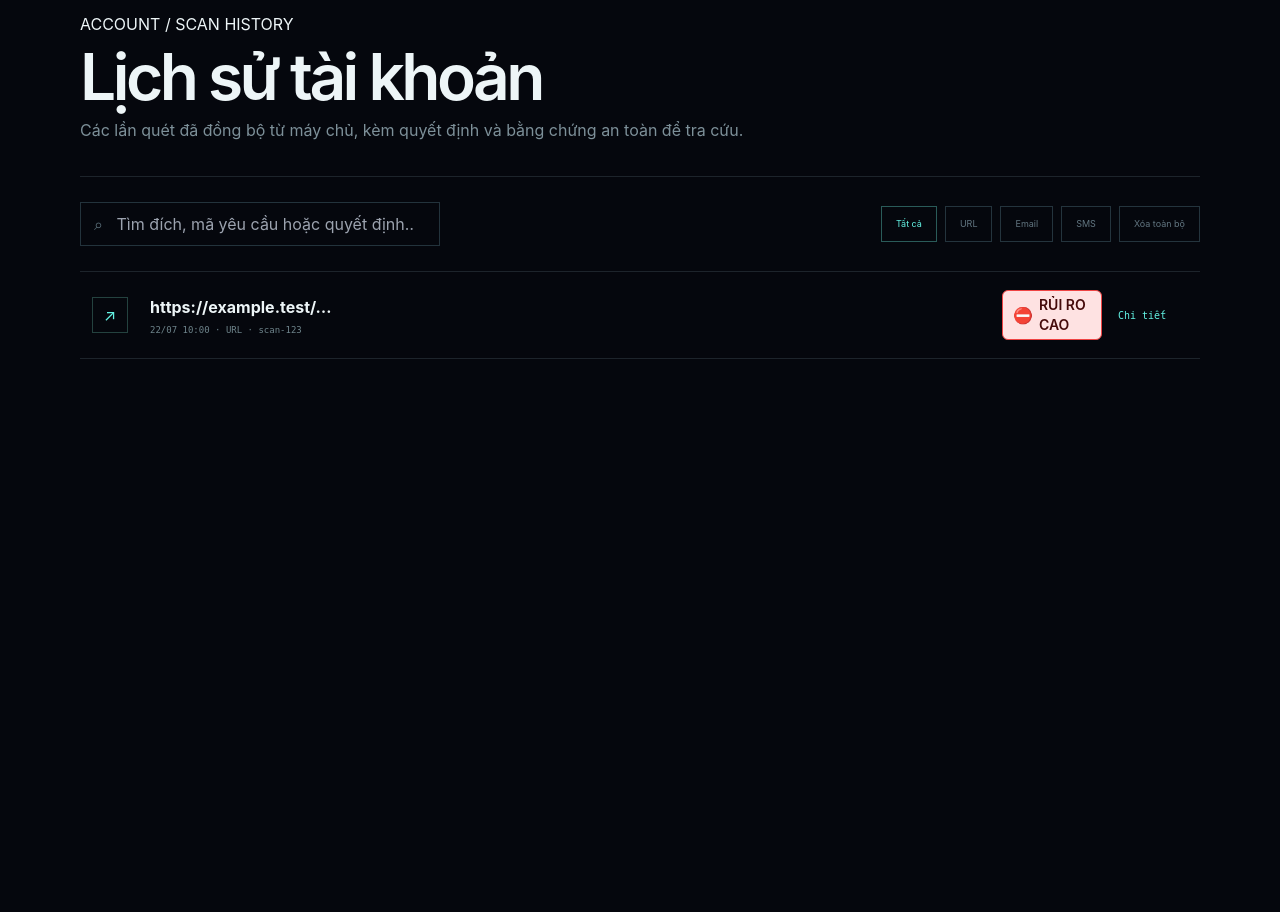
Test: AccountHistoryPage › exports the owner-safe detail as a JSON download
This screenshot has width=1280, height=912.
Click the button "Chi tiết" at [110, 315], box [80,272,1200,358]
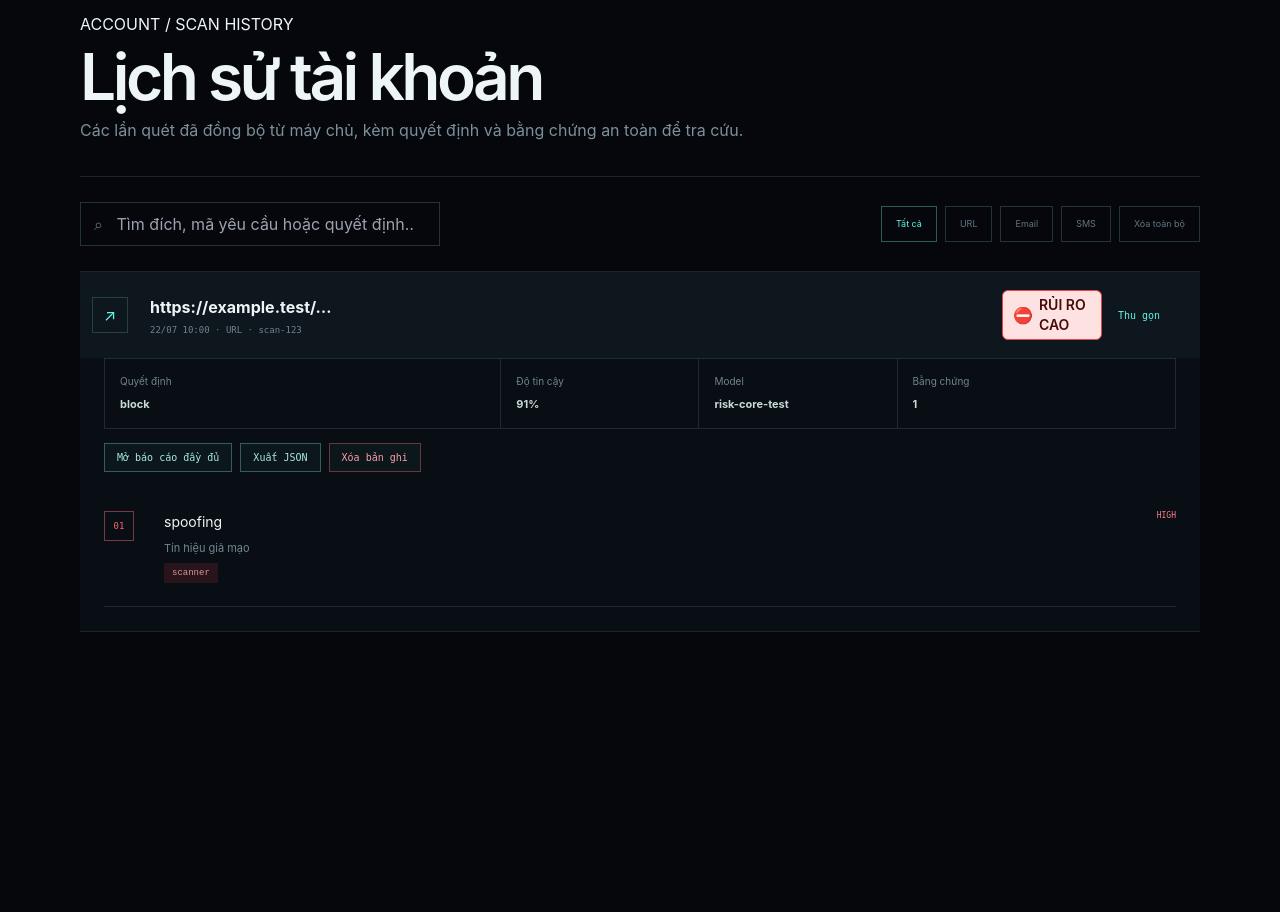
Click the button "Xuất JSON" at [280, 457], box [240,443,321,472]
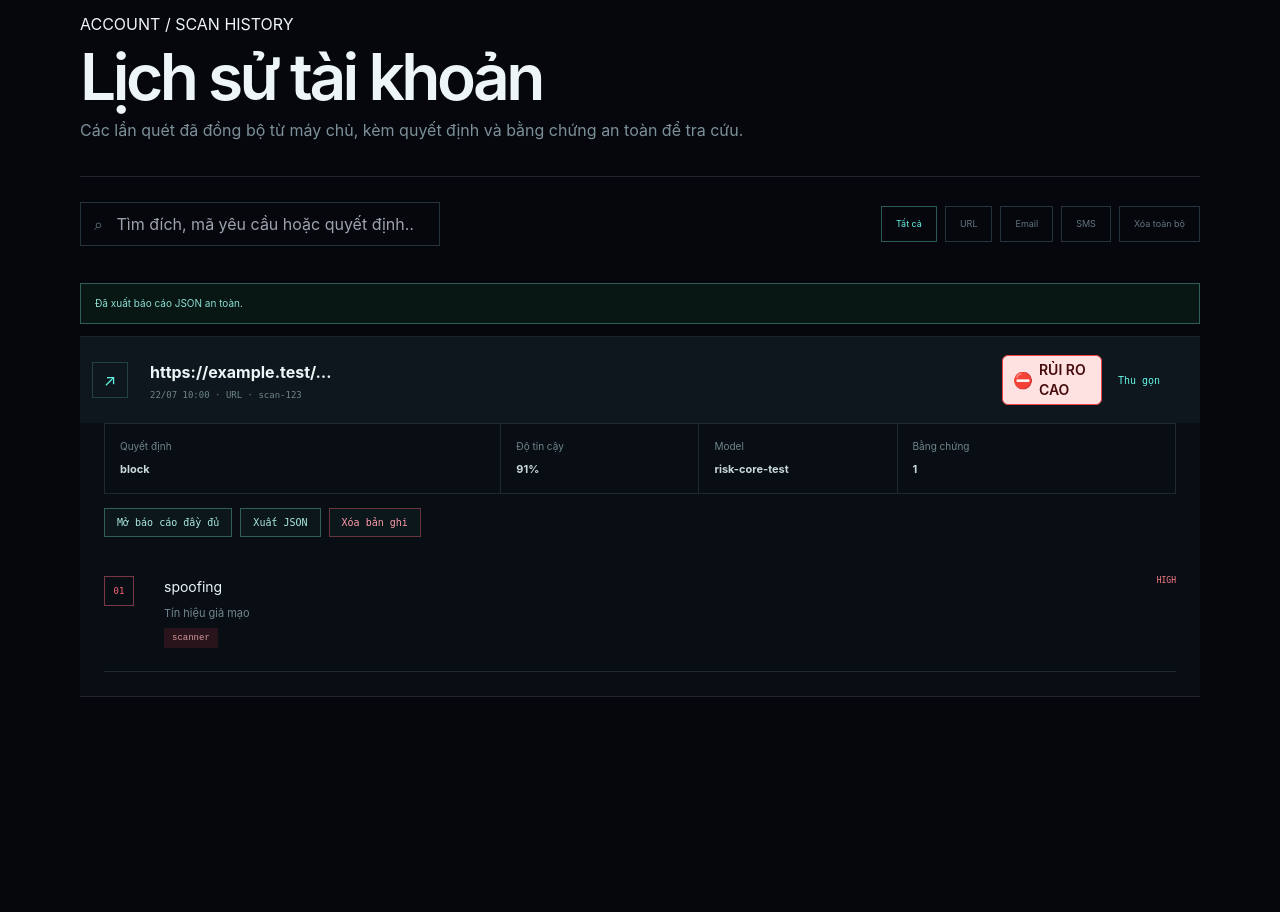
Now the text "Đã xuất báo cáo JSON an toàn." is shown, box [80,283,1200,324]
